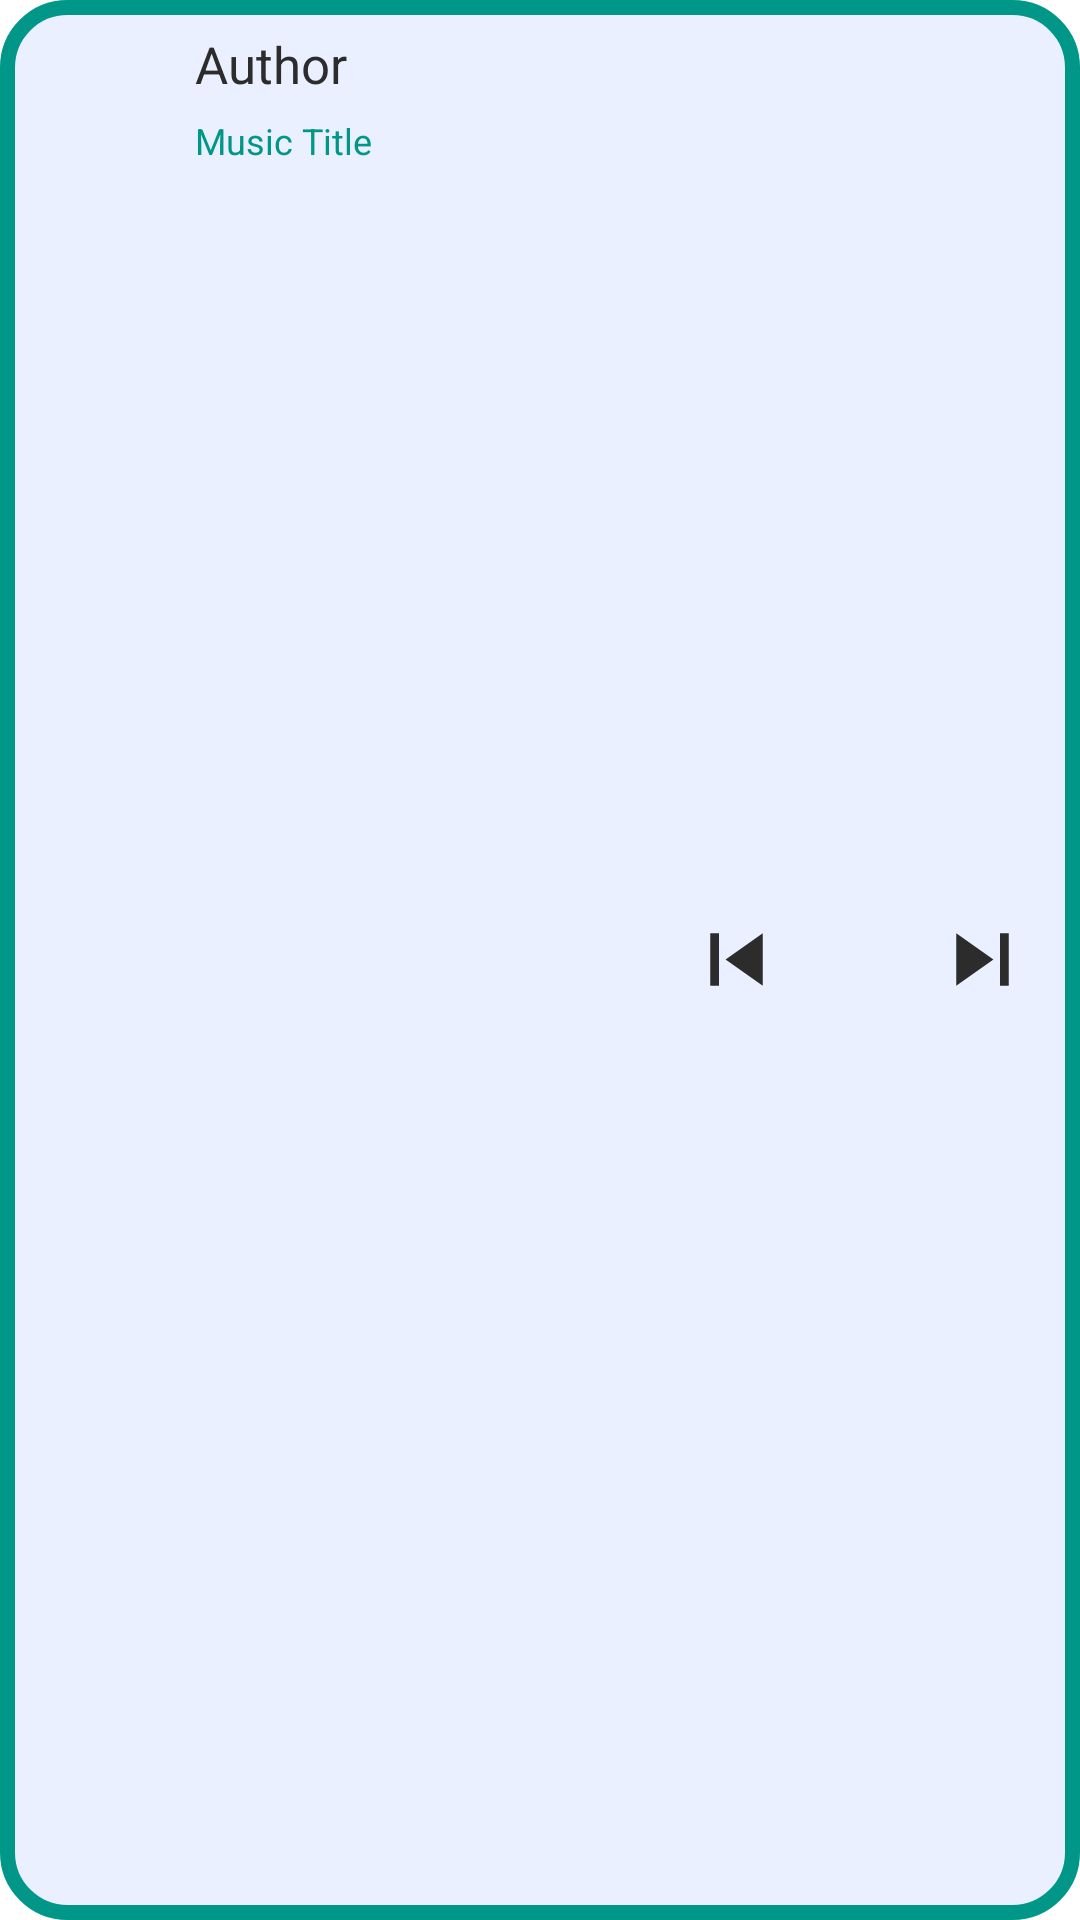

Icons on this 1080 x 1920 Android screen, each with its box as (x1, y1, x2, y2):
next: (956, 933, 1009, 986)
previous: (710, 933, 763, 986)
